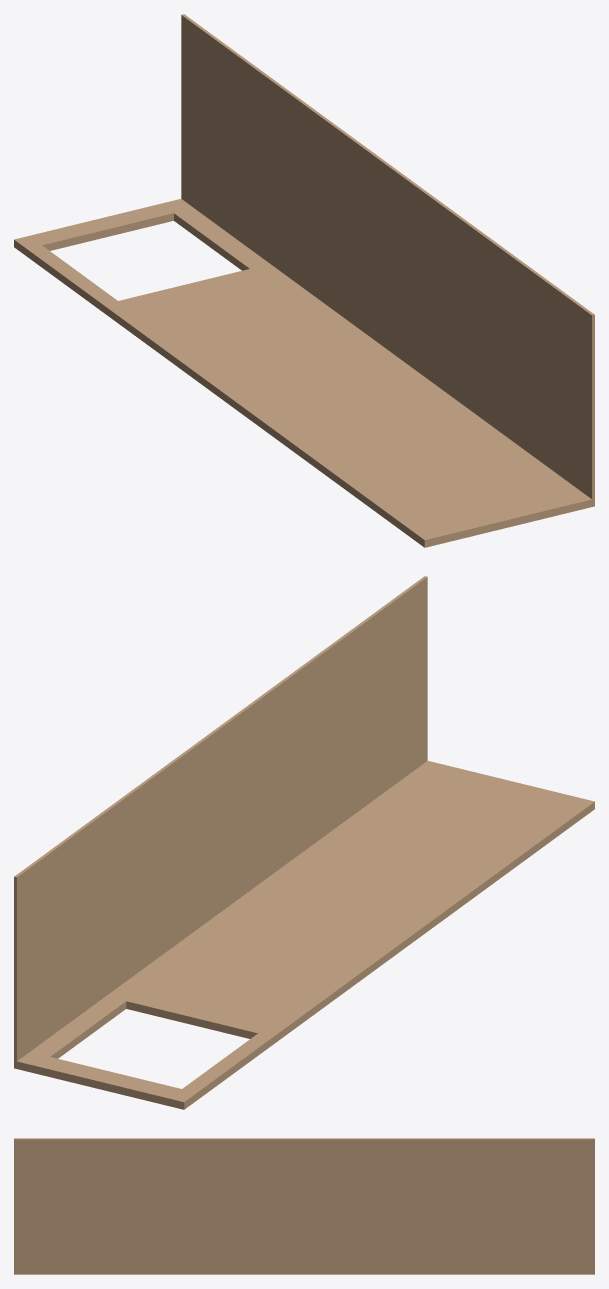
The model's file is Countertop.fbx.
3 renders of one model, top to bottom at view 1: azimuth 30°, elevation 25°; view 2: azimuth 150°, elevation 25°; view 3: azimuth 270°, elevation 25°, orthographic. The views are drawn at different scales.
Visible parts, largest first — view 1: CounterBackWall, Countertop; view 2: CounterBackWall, Countertop; view 3: CounterBackWall, Countertop.
Part boxes in pixels (x1=…): CounterBackWall: x1=181, y1=14, x2=594, y2=499; Countertop: x1=14, y1=199, x2=594, y2=547; CounterBackWall: x1=14, y1=576, x2=427, y2=1061; Countertop: x1=14, y1=761, x2=594, y2=1109; CounterBackWall: x1=14, y1=1138, x2=594, y2=1269; Countertop: x1=14, y1=1269, x2=594, y2=1274.
Size of the model in its own units: 58.1 by 62.5 by 243.
